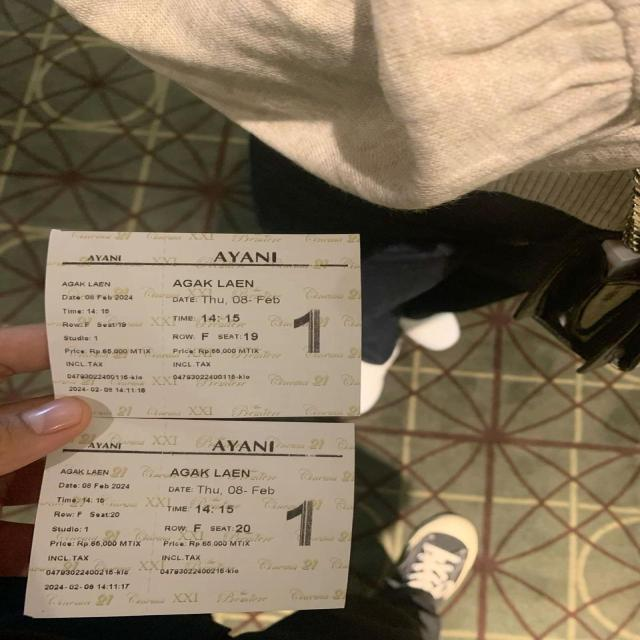date: (60, 292, 295, 306)
store: (209, 245, 285, 264)
total: (166, 344, 272, 358)
